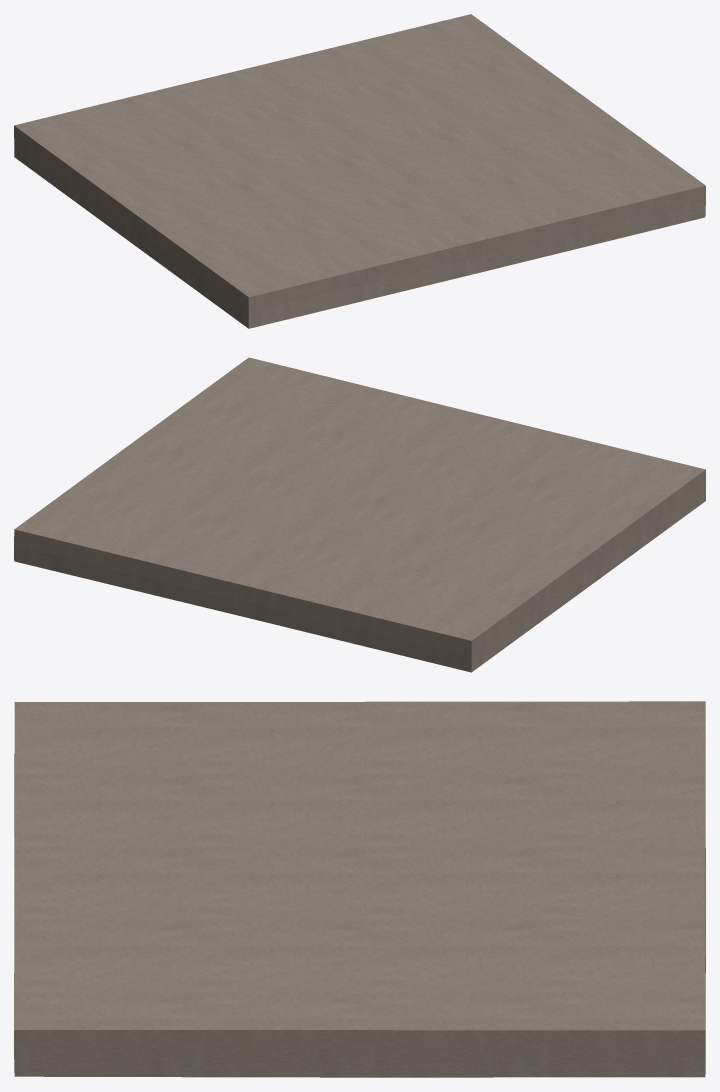
The model's file is beach.obj.
The picture shows the model from 3 angles, top to bottom: view 1: azimuth 30°, elevation 25°; view 2: azimuth 150°, elevation 25°; view 3: azimuth 270°, elevation 25°; orthographic projection. The views are drawn at different scales.
Visible parts, largest first — view 1: Beach; view 2: Beach; view 3: Beach.
Boxes of the visible parts, x1,y1,x2,y2 form: Beach: (14, 14, 705, 328); Beach: (14, 357, 705, 672); Beach: (14, 701, 705, 1077).
Bounding box in the file's own units: 18.01 × 1.21 × 16.02.
Materials: 1 (1 with a texture image).
